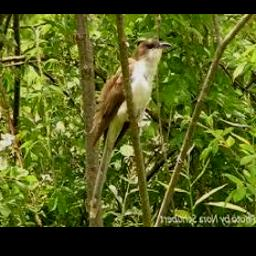Cuckoo: (89, 40, 172, 146)
